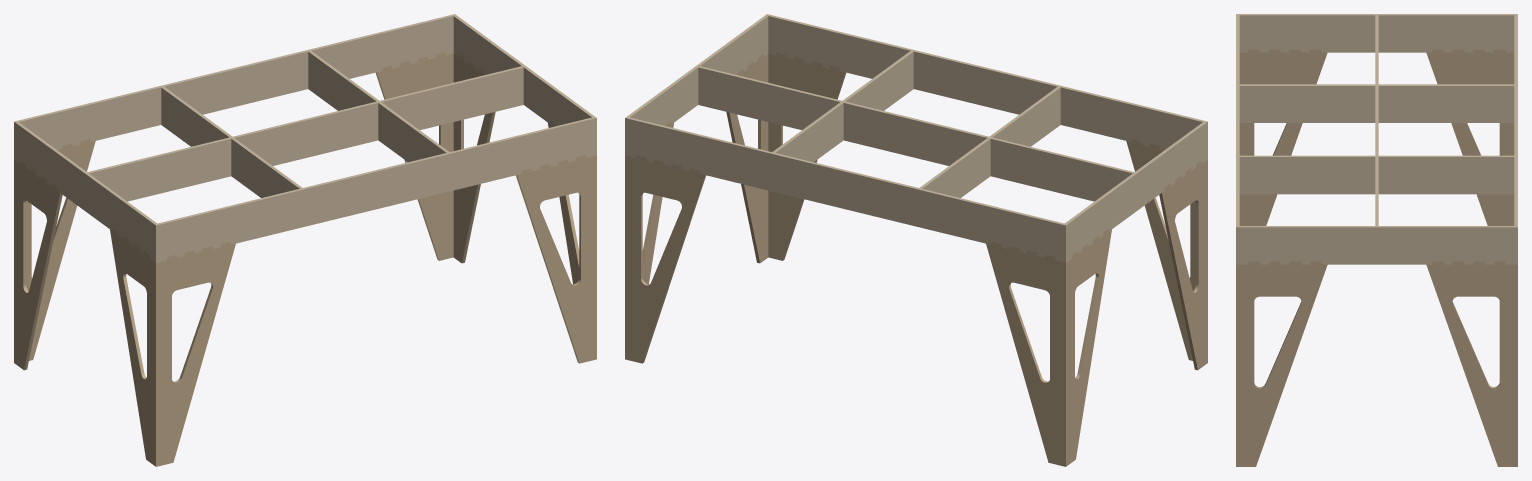
Rendered from geometric-v11-design-only.glb.
3 views of the same model, side by side, from view 1: azimuth 30°, elevation 25°; view 2: azimuth 150°, elevation 25°; view 3: azimuth 270°, elevation 25° (orthographic).
Parts seen in each view (by area): view 1: L_south, LC, L_north, A_SW, A_SE, W_west, B_NW, B_SW, A_NE, C_1, C_2, W_east (+3 smaller); view 2: L_north, LC, L_south, A_NW, A_NE, W_west, B_SW, B_NW, A_SE, C_1, C_2, W_east (+3 smaller); view 3: C_2, C_1, W_east, W_west, B_SE, B_NE, B_SW, B_NW, L_south, L_north, LC, A_SE (+1 smaller).
Part boxes in pixels (left/top/right/bottom): L_south: left=154, top=117, right=596, bottom=262; LC: left=84, top=66, right=523, bottom=204; L_north: left=14, top=14, right=456, bottom=159; A_SW: left=154, top=241, right=235, bottom=466; A_SE: left=516, top=155, right=596, bottom=363; W_west: left=14, top=122, right=159, bottom=261; B_NW: left=14, top=160, right=62, bottom=370; B_SW: left=110, top=228, right=159, bottom=465; A_NE: left=375, top=52, right=453, bottom=260; C_1: left=161, top=86, right=304, bottom=220; C_2: left=308, top=51, right=451, bottom=185; W_east: left=453, top=15, right=596, bottom=148; L_north: left=625, top=117, right=1067, bottom=262; LC: left=698, top=66, right=1137, bottom=204; L_south: left=765, top=14, right=1207, bottom=159; A_NW: left=986, top=241, right=1067, bottom=466; A_NE: left=625, top=155, right=705, bottom=363; W_west: left=1062, top=122, right=1207, bottom=261; B_SW: left=1159, top=160, right=1207, bottom=370; B_NW: left=1062, top=228, right=1111, bottom=465; A_SE: left=768, top=52, right=846, bottom=260; C_1: left=917, top=86, right=1060, bottom=220; C_2: left=770, top=51, right=913, bottom=185; W_east: left=625, top=15, right=768, bottom=148; C_2: left=1239, top=155, right=1514, bottom=194; C_1: left=1239, top=84, right=1514, bottom=122; W_east: left=1236, top=226, right=1517, bottom=264; W_west: left=1239, top=14, right=1514, bottom=52; B_SE: left=1236, top=261, right=1327, bottom=466; B_NE: left=1426, top=261, right=1517, bottom=466; B_SW: left=1239, top=49, right=1327, bottom=225; B_NW: left=1426, top=49, right=1514, bottom=225; L_south: left=1236, top=14, right=1239, bottom=264; L_north: left=1514, top=14, right=1517, bottom=264; LC: left=1375, top=15, right=1378, bottom=258; A_SE: left=1236, top=264, right=1239, bottom=466.
Bounding box in the file's own units: 0.86 × 0.45 × 0.48.
